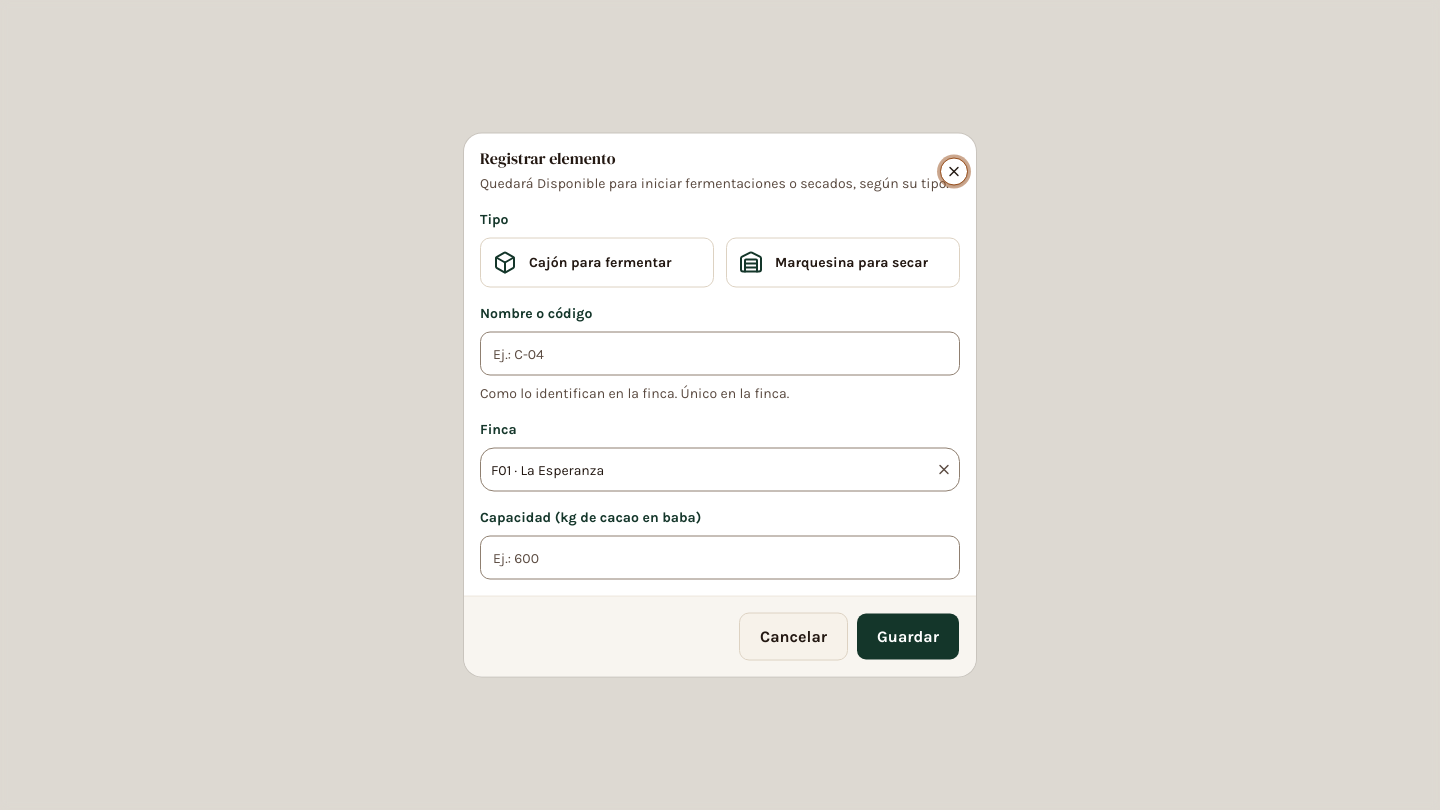
the suggested name › follows the farm chosen
Step 1. Click the radio button labelled "Cajón para fermentar" → (597, 262), box [480,238,714,288]
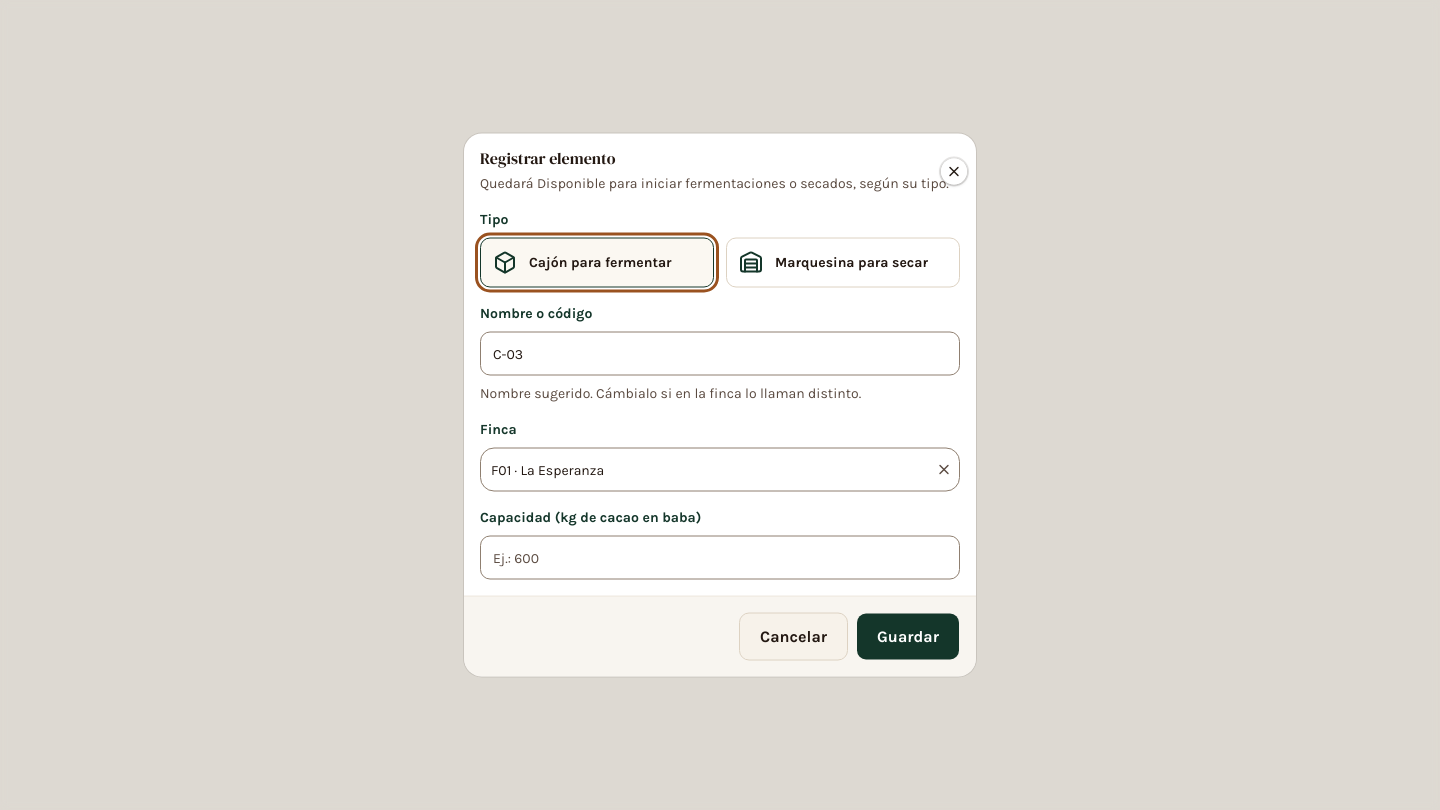
Expected: the field labelled "Nombre o código" holds "C-03", [480,332,960,376]
Step 2. Click the dropdown labelled "Finca" → (706, 470), box [481,454,932,486]
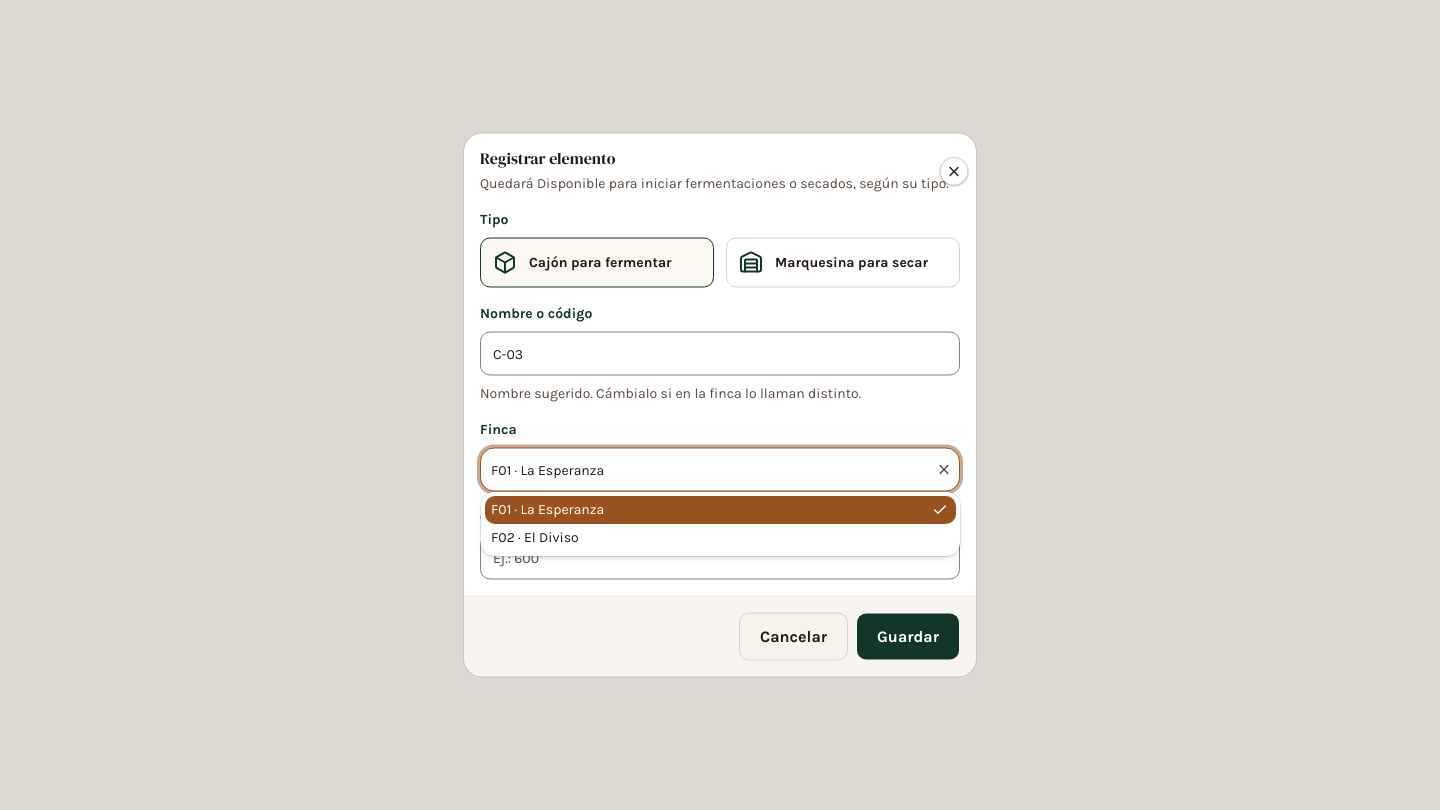
Step 3. Click the option "F02 · El Diviso" → (535, 538), box [491,529,579,546]
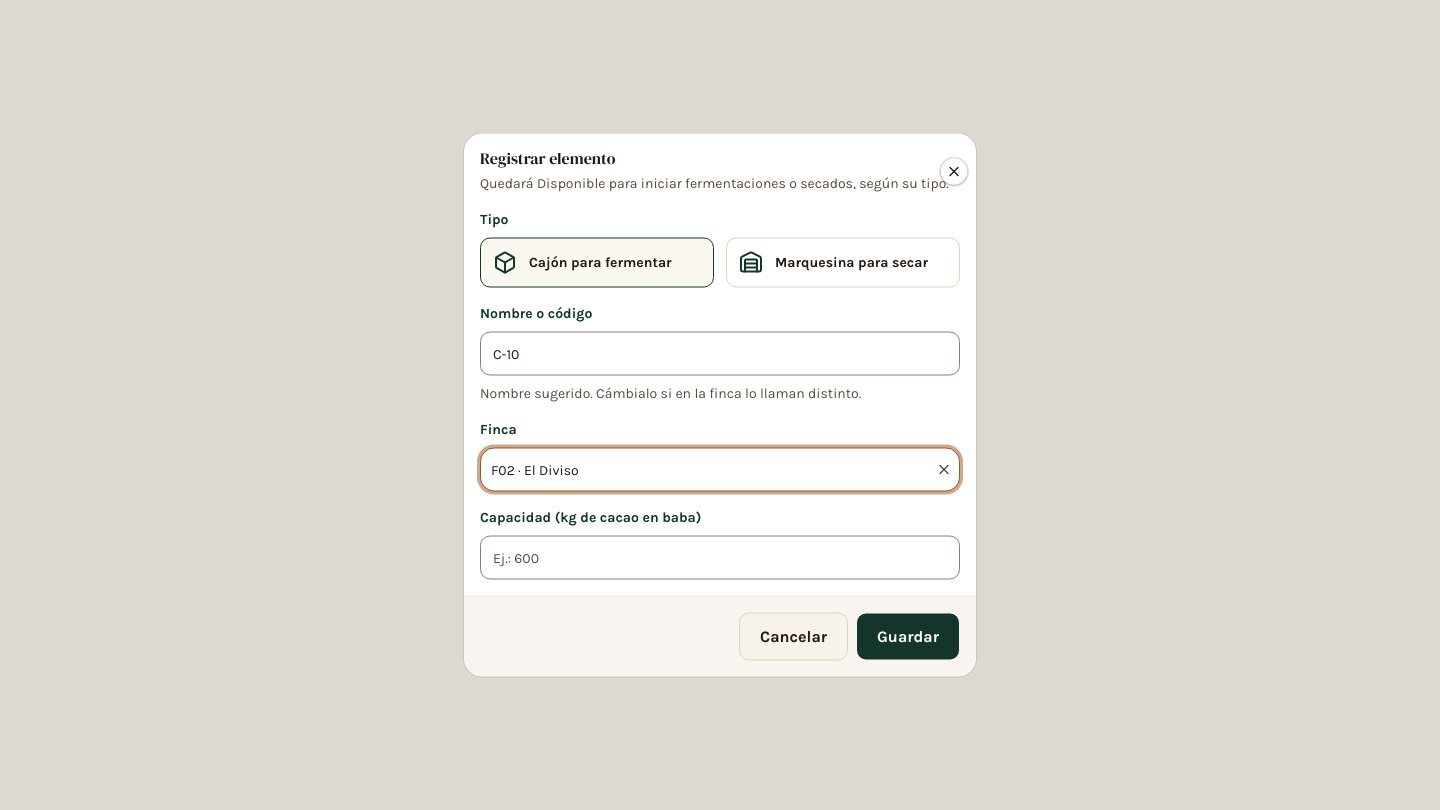
Expected: the field labelled "Nombre o código" holds "C-10", [480,332,960,376]
